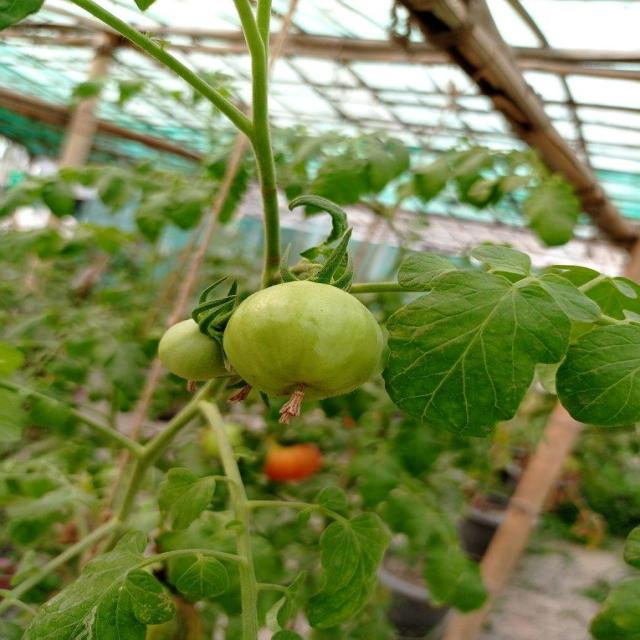Unripe: (221, 279, 385, 396)
